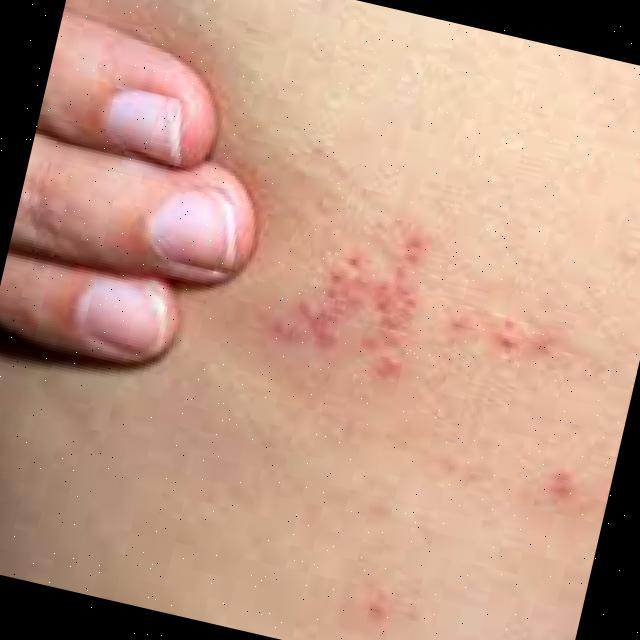kan emici bocekler: (275, 216, 443, 403), (449, 294, 568, 368), (541, 470, 582, 507), (361, 580, 394, 619)
